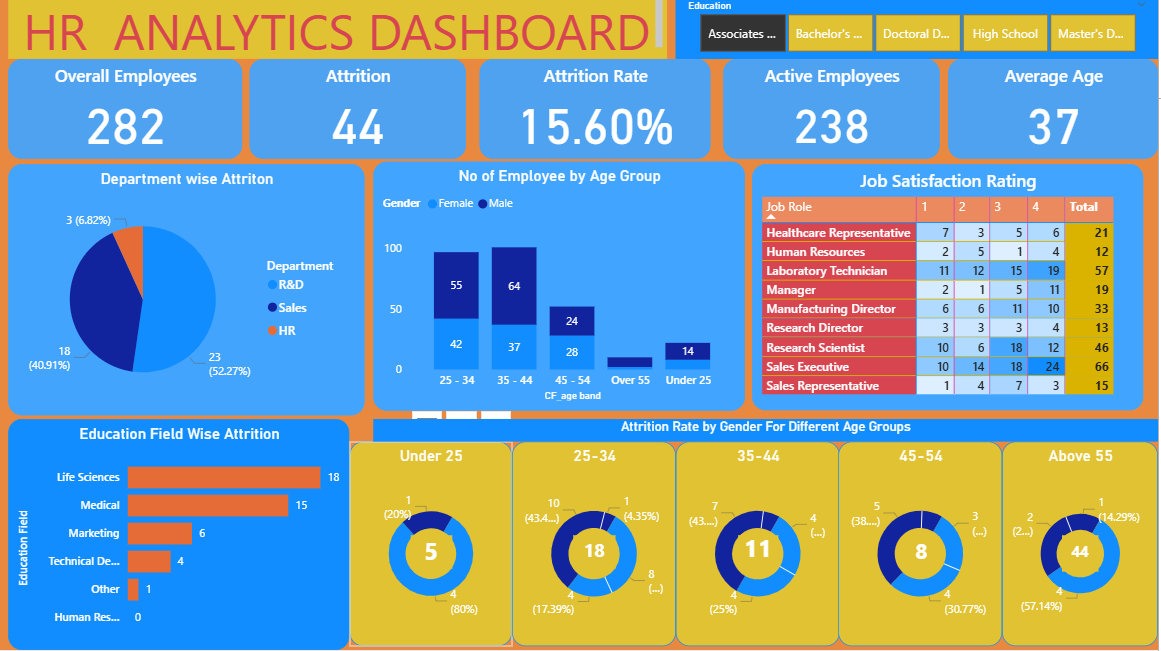

The dashboard page shown, as its layout file describes it:
{"tool":"powerbi","page":{"name":"Page 1","canvas":[1280,720],"ordinal":0},"visuals":[{"type":"card","title":"Overall Employees","fields":{"Values":["Sum(HR data.Employee Count)"]},"box":[17.8,71.4,256.6,109.8],"z":0},{"type":"card","title":"Attrition","fields":{"Values":["Sum(HR data.Attrition Count)"]},"box":[282.7,71.4,237.4,109.8],"z":1000},{"type":"card","title":"Attrition Rate","fields":{"Values":["HR data.Attrition Rate"]},"box":[535.2,71.4,253.9,109.8],"z":2000},{"type":"card","title":"Active Employees","fields":{"Values":["HR data.Active Employees"]},"box":[802.7,71.4,237.4,109.8],"z":3000},{"type":"card","title":"Average Age","fields":{"Values":["Avg(HR data.Age)"]},"box":[1049.7,71.4,230.5,109.8],"z":4000},{"type":"pieChart","title":"Department wise Attriton","fields":{"Category":["HR data.Department"],"Y":["Sum(HR data.Attrition Count)"]},"box":[17.8,186.6,391.1,275.8],"z":5000},{"type":"columnChart","title":"No of Employee by Age Group","fields":{"Category":["HR data.CF_age band"],"Y":["Sum(HR data.Employee Count)"],"Series":["HR data.Gender"]},"box":[418.6,183.4,407.8,273.9],"z":6000},{"type":"pivotTable","title":"Job Satisfaction Rating","fields":{"Rows":["HR data.Job Role"],"Columns":["HR data.Job Satisfaction"],"Values":["Sum(HR data.Employee Count)"]},"box":[834.9,187,429.5,270.2],"z":7000},{"type":"barChart","title":"Education Field Wise Attrition ","fields":{"Category":["HR data.Education Field"],"Y":["Sum(HR data.Attrition Count)"]},"box":[17.8,466.6,374.6,253.9],"z":8000},{"type":"donutChart","title":"Under 25","fields":{"Category":["HR data.Gender"],"Y":["Sum(HR data.Attrition Count)"],"Series":["HR data.CF_age band"]},"box":[392.5,491.3,178.4,225],"z":9000},{"type":"textbox","title":"Attrition Rate by Gender For Different Age Groups","box":[418.5,466.6,861.8,24.7],"z":10000},{"type":"donutChart","title":"25-34","fields":{"Category":["HR data.Gender"],"Y":["Sum(HR data.Attrition Count)"],"Series":["HR data.CF_age band"]},"box":[570.8,491.3,179.8,225],"z":11000},{"type":"donutChart","title":" 35-44","fields":{"Category":["HR data.Gender"],"Y":["Sum(HR data.Attrition Count)"],"Series":["HR data.CF_age band"]},"box":[750.6,491.3,179.8,225],"z":12000},{"type":"donutChart","title":"45-54","fields":{"Category":["HR data.Gender"],"Y":["Sum(HR data.Attrition Count)"],"Series":["HR data.CF_age band"]},"box":[929,491.3,179.8,225],"z":13000},{"type":"donutChart","title":"Above 55","fields":{"Category":["HR data.Gender"],"Y":["Sum(HR data.Attrition Count)"],"Series":["HR data.CF_age band"]},"box":[1108.8,491.3,171.5,225],"z":14000},{"type":"card","fields":{"Values":["Sum(HR data.Attrition Count)"]},"box":[459.7,594.2,45.3,37],"z":15000},{"type":"card","fields":{"Values":["Sum(HR data.Attrition Count)"]},"box":[638.1,594.2,46.7,37],"z":16000},{"type":"card","fields":{"Values":["Sum(HR data.Attrition Count)"]},"box":[819.2,594.2,43.9,30.2],"z":17000},{"type":"card","fields":{"Values":["Sum(HR data.Attrition Count)"]},"box":[1000.3,595.5,39.8,35.7],"z":18000},{"type":"card","fields":{"Values":["Sum(HR data.Attrition Count)"]},"box":[1174.6,594.2,39.8,39.8],"z":19000},{"type":"textbox","box":[17.8,0,723.2,71.4],"z":19001},{"type":"slicer","fields":{"Values":["HR data.Education"]},"box":[750.6,0,529.7,71.4],"z":19002}]}

Visuals, with their boxes in screenshot pixels (x1, y1, x2, y2), scaled from the page's 1280x720 canvas onto the 1161x651 screenshot:
"Overall Employees" card: bbox(16, 65, 249, 164)
"Attrition" card: bbox(256, 65, 472, 164)
"Attrition Rate" card: bbox(485, 65, 716, 164)
"Active Employees" card: bbox(728, 65, 943, 164)
"Average Age" card: bbox(952, 65, 1160, 164)
"Department wise Attriton" pieChart: bbox(16, 169, 371, 418)
"No of Employee by Age Group" columnChart: bbox(380, 166, 750, 413)
"Job Satisfaction Rating" pivotTable: bbox(757, 169, 1147, 413)
"Education Field Wise Attrition " barChart: bbox(16, 422, 356, 650)
"Under 25" donutChart: bbox(356, 444, 518, 648)
"Attrition Rate by Gender For Different Age Groups" textbox: bbox(380, 422, 1160, 444)
"25-34" donutChart: bbox(518, 444, 681, 648)
" 35-44" donutChart: bbox(681, 444, 844, 648)
"45-54" donutChart: bbox(843, 444, 1006, 648)
"Above 55" donutChart: bbox(1006, 444, 1160, 648)
card - Sum(HR data.Attrition Count): bbox(417, 537, 458, 571)
card - Sum(HR data.Attrition Count): bbox(579, 537, 621, 571)
card - Sum(HR data.Attrition Count): bbox(743, 537, 783, 565)
card - Sum(HR data.Attrition Count): bbox(907, 538, 943, 571)
card - Sum(HR data.Attrition Count): bbox(1065, 537, 1101, 573)
textbox: bbox(16, 0, 672, 65)
slicer - HR data.Education: bbox(681, 0, 1160, 65)
